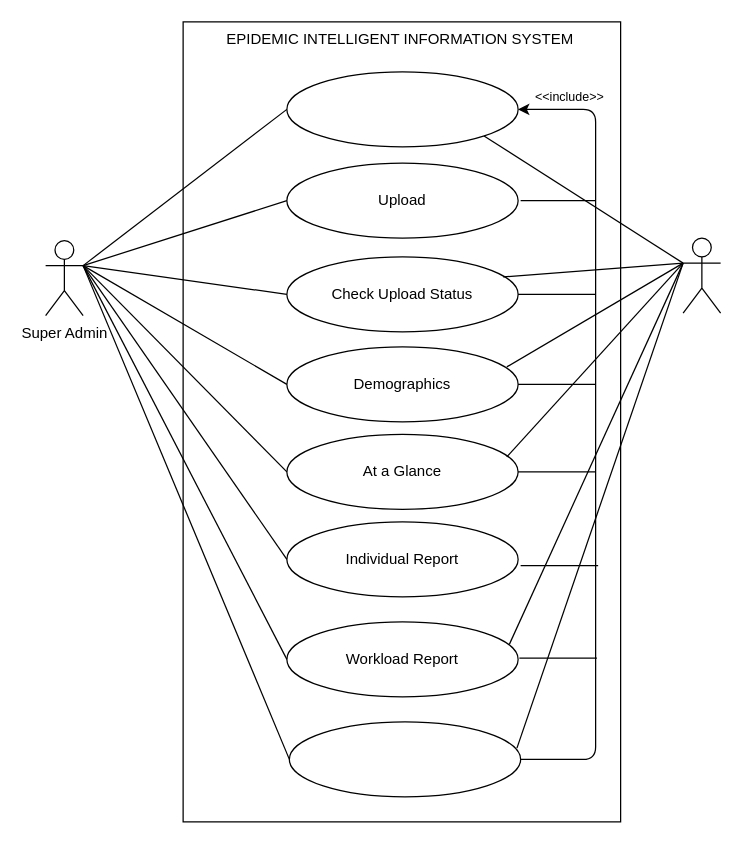
Image size: 743x844. Some labels were removed from this diagram. Each missing label, with the centre of its shape:
Log In: (402,109)
Log Out: (404,759)
User: (701,275)
